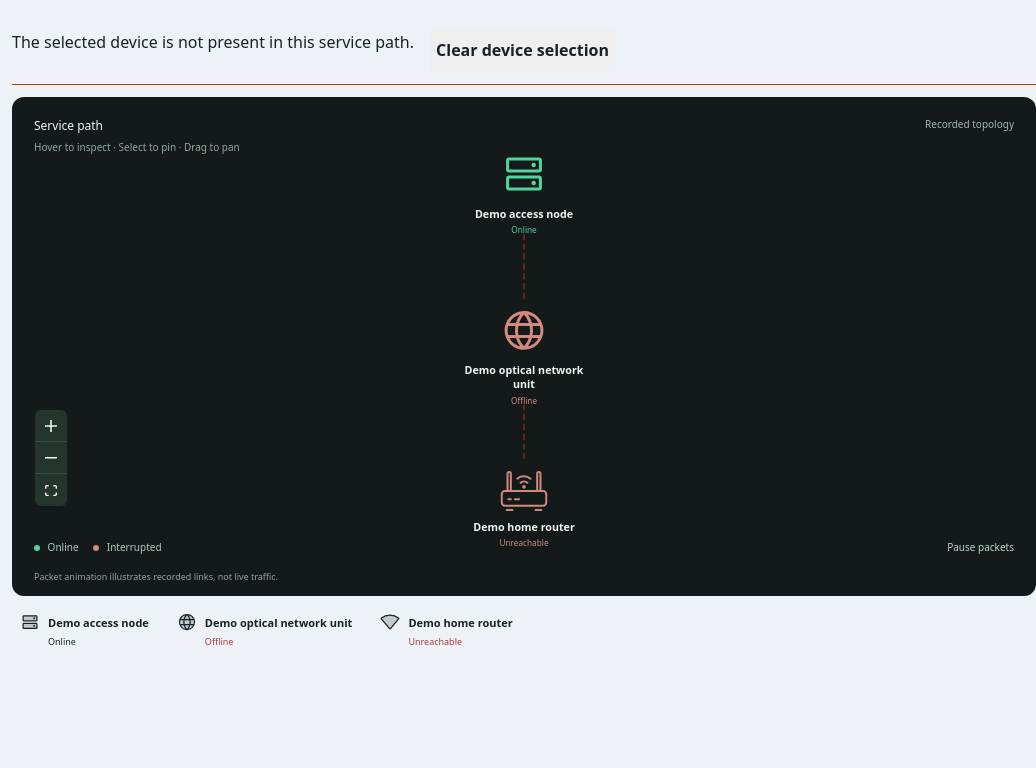
Test: TopologyPath › shows and clears a selection that is not represented in the service path
This screenshot has width=1036, height=768.
Expected: the message shows "The selected device is not present in this service path.", x1=12 y1=31 x2=414 y2=53
Click the button "Clear device selection": (523, 50) x1=430 y1=28 x2=615 y2=72
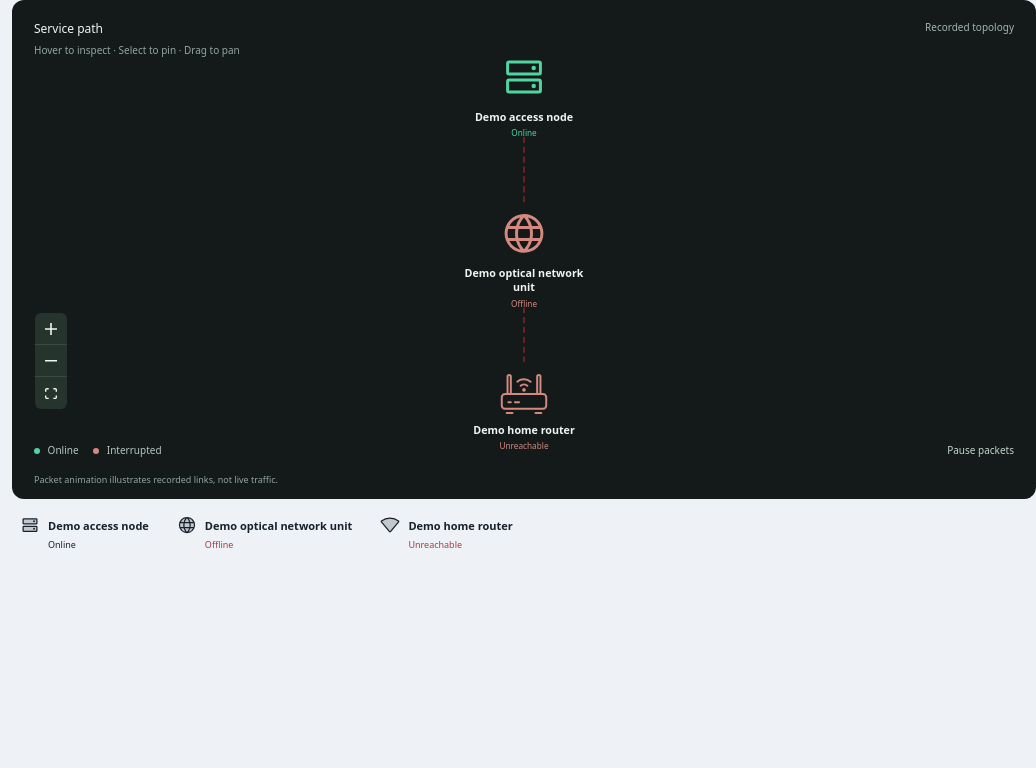
Expected: the message "The selected device is not present in this service path. Clear device selection" is gone
Click the button "Demo optical network unit Offline": (265, 533) x1=169 y1=511 x2=360 y2=555
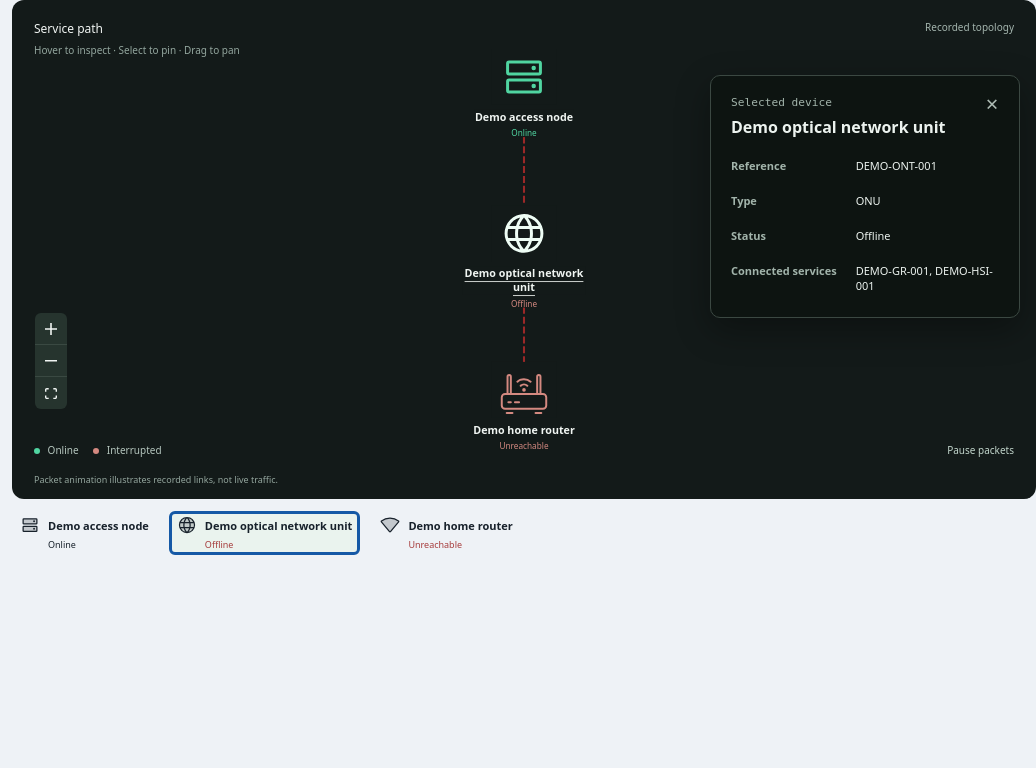
Expected: the text "The selected device is not present in this service path." is not shown
Expected: the heading "Demo optical network unit" is shown, x1=731 y1=116 x2=946 y2=138
